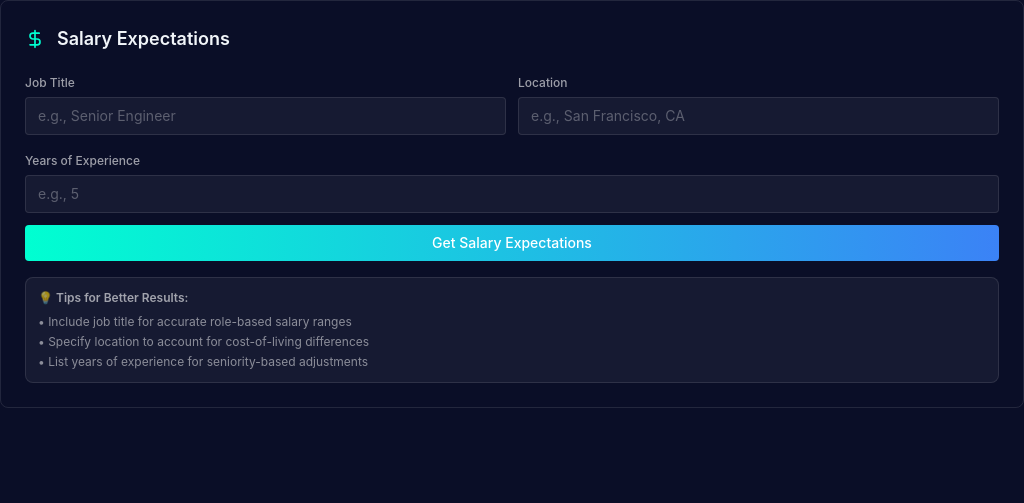
Test: SalaryExpectations Component › shows error message on failure
Click the button "Get Salary Expectations" at (512,243), box [25,225,999,261]
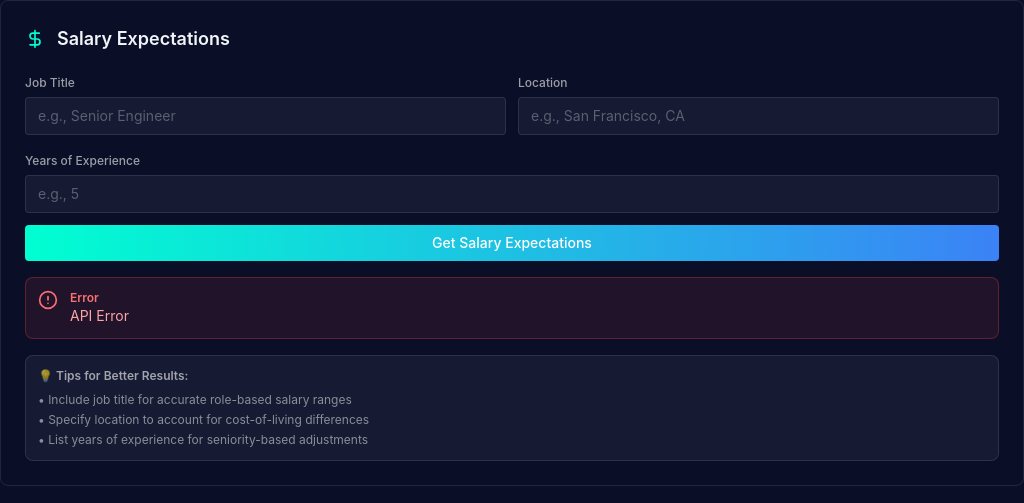
Check: the text "Error" is shown, box [70,290,99,305]
